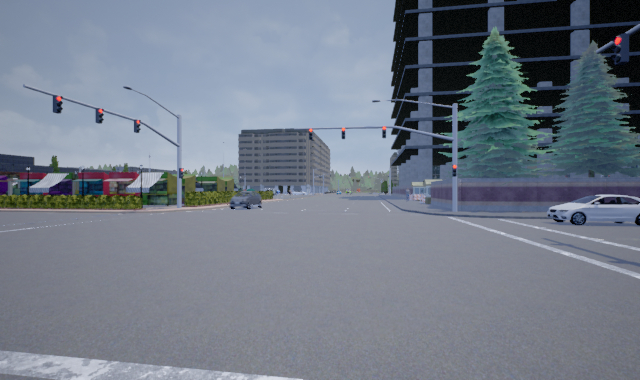traffic_light: (614, 33, 631, 66), (52, 93, 63, 115), (95, 106, 104, 125), (133, 115, 141, 133), (340, 126, 347, 139), (308, 125, 313, 143), (452, 163, 458, 178), (381, 124, 387, 138)
vehicle: (546, 194, 639, 224), (228, 191, 262, 210)
